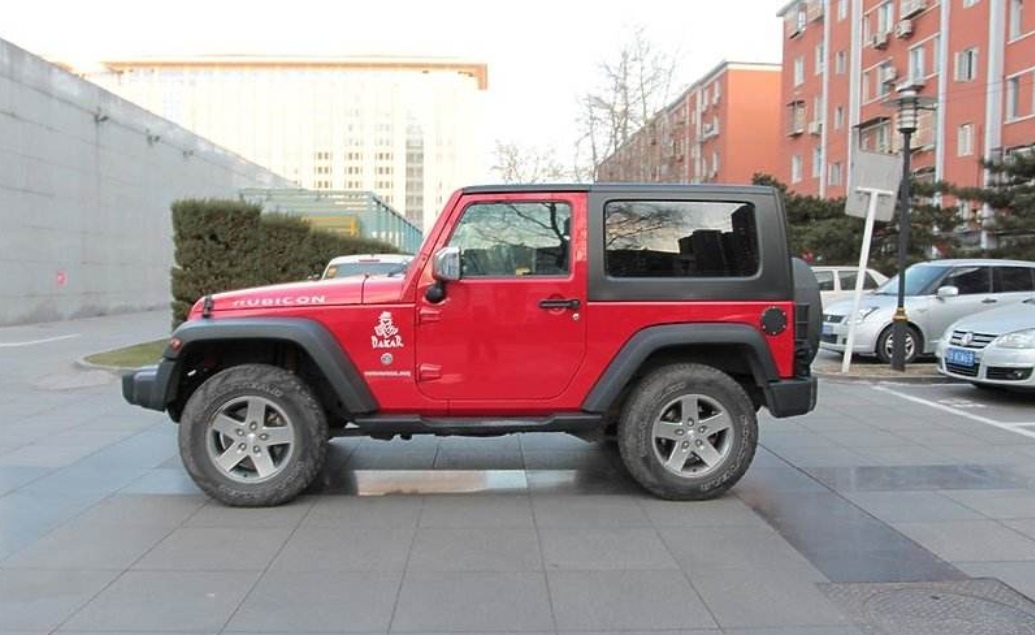jeep: (133, 175, 870, 513)
